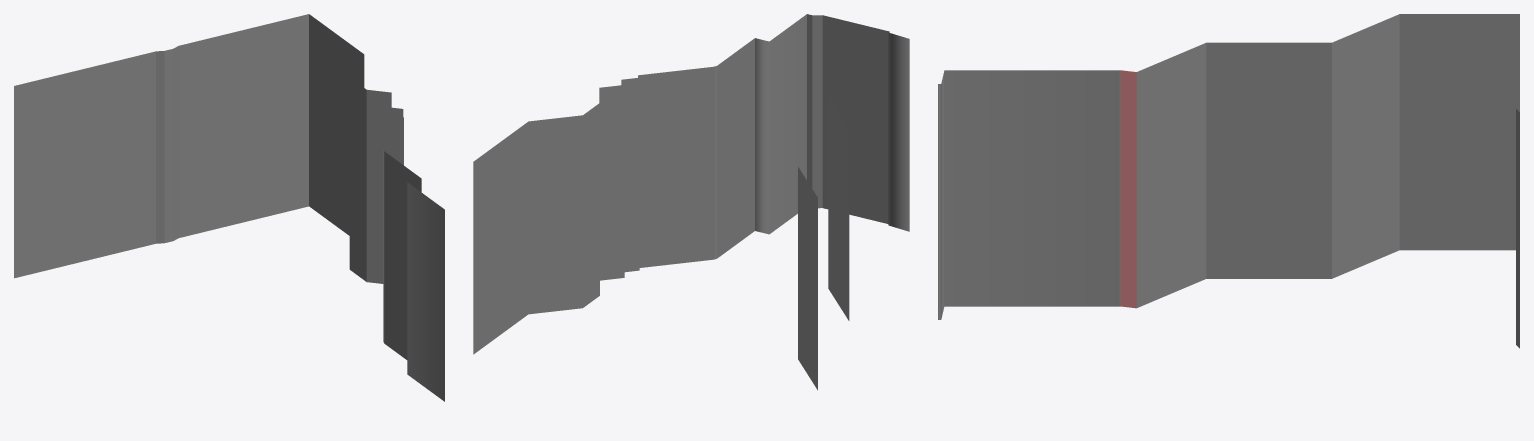
Rendered from SM_ENV_KNVLLG03_AreaBorder.gltf.
The picture shows the model from 3 angles, left to right: view 1: azimuth 30°, elevation 25°; view 2: azimuth 150°, elevation 25°; view 3: azimuth 270°, elevation 25°; orthographic projection. The views are drawn at different scales.
Parts seen in each view (by area): view 1: SM_ENV_KNVLLG03_AreaBorder; view 2: SM_ENV_KNVLLG03_AreaBorder; view 3: SM_ENV_KNVLLG03_AreaBorder.
Part boxes in pixels (left/top/right/bottom): SM_ENV_KNVLLG03_AreaBorder: left=14, top=14, right=444, bottom=401; SM_ENV_KNVLLG03_AreaBorder: left=473, top=14, right=909, bottom=390; SM_ENV_KNVLLG03_AreaBorder: left=938, top=14, right=1519, bottom=348.
Size of the model in its own units: 137 by 85.17 by 190.
